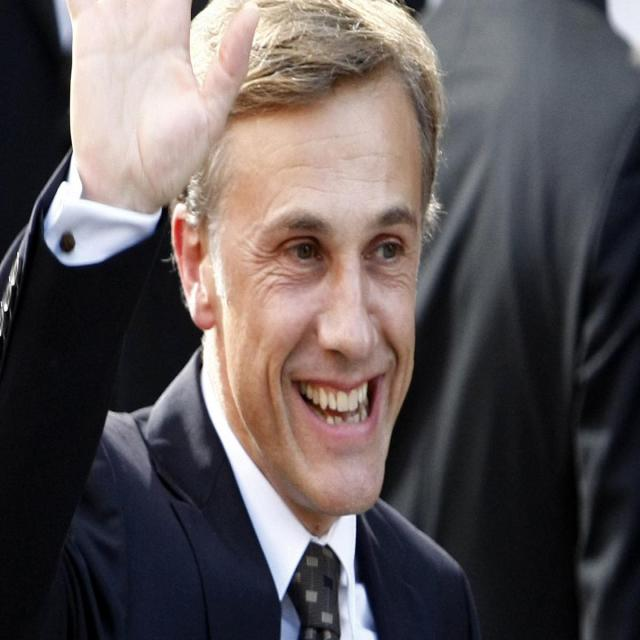no-earmuff: (160, 192, 237, 342), (0, 0, 128, 8)
